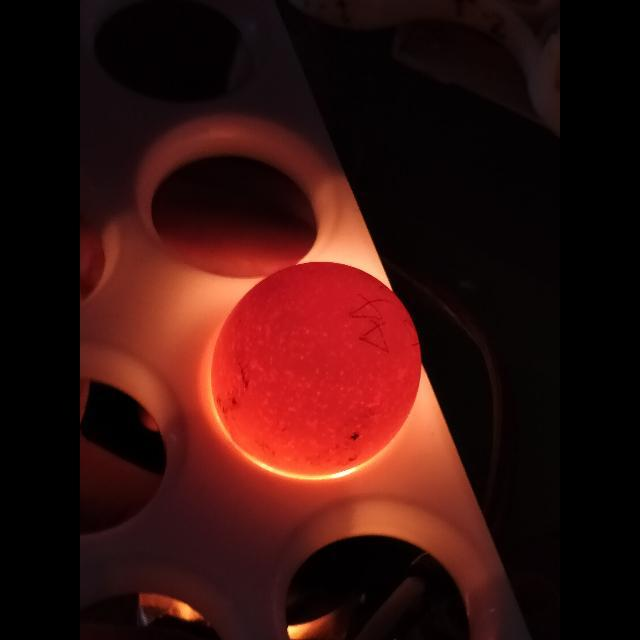Infertile: (209, 260, 423, 476)
